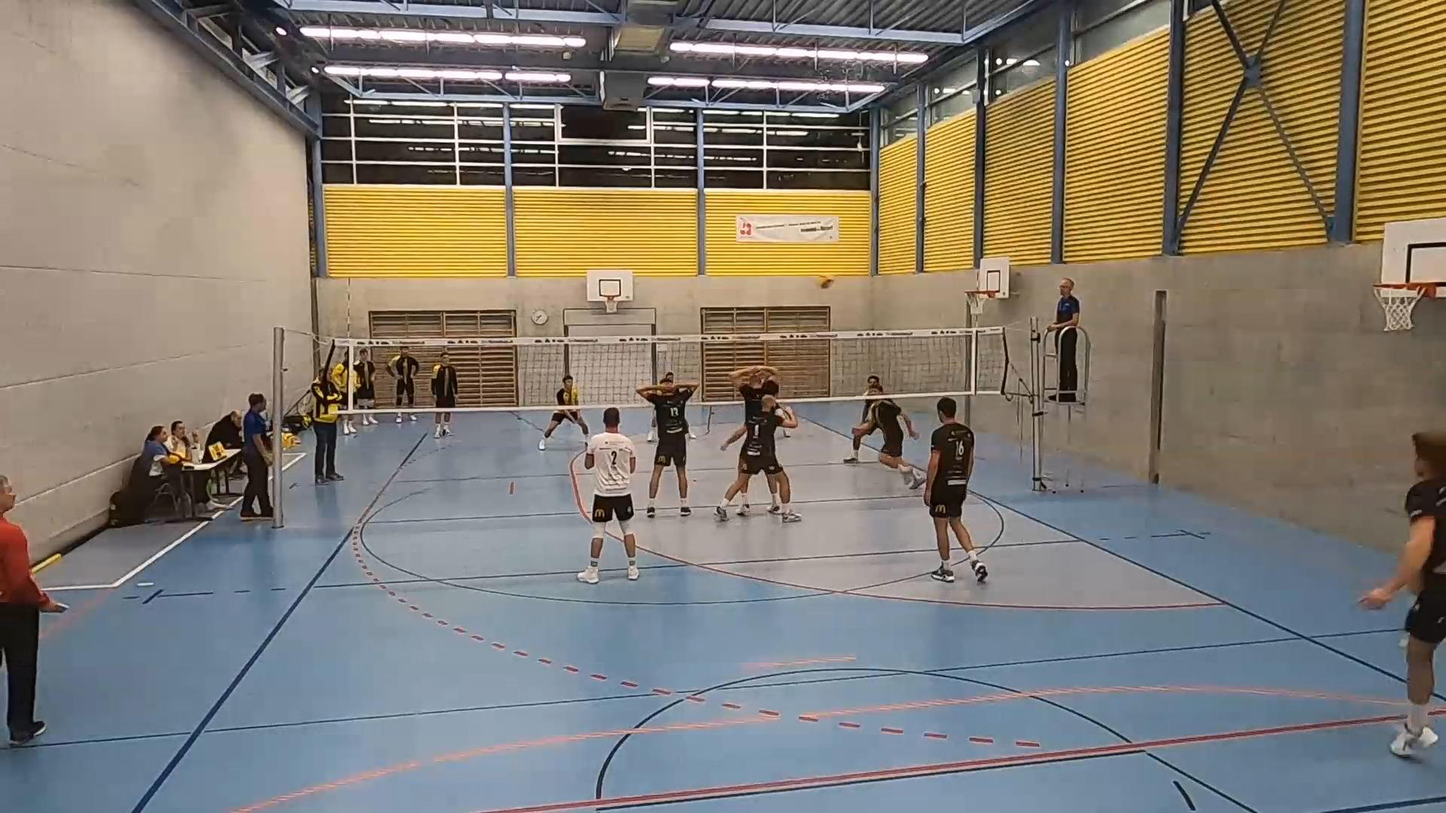Player: (1361, 426, 1446, 762), (924, 397, 987, 582), (577, 407, 639, 583), (715, 396, 801, 522), (636, 373, 698, 517), (853, 397, 923, 489), (538, 375, 587, 450), (729, 364, 777, 425), (729, 365, 779, 421), (431, 350, 458, 408), (859, 375, 882, 424), (646, 416, 656, 443)
